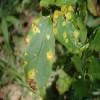Apple rust leaf: (23, 11, 56, 92), (53, 8, 91, 56)
